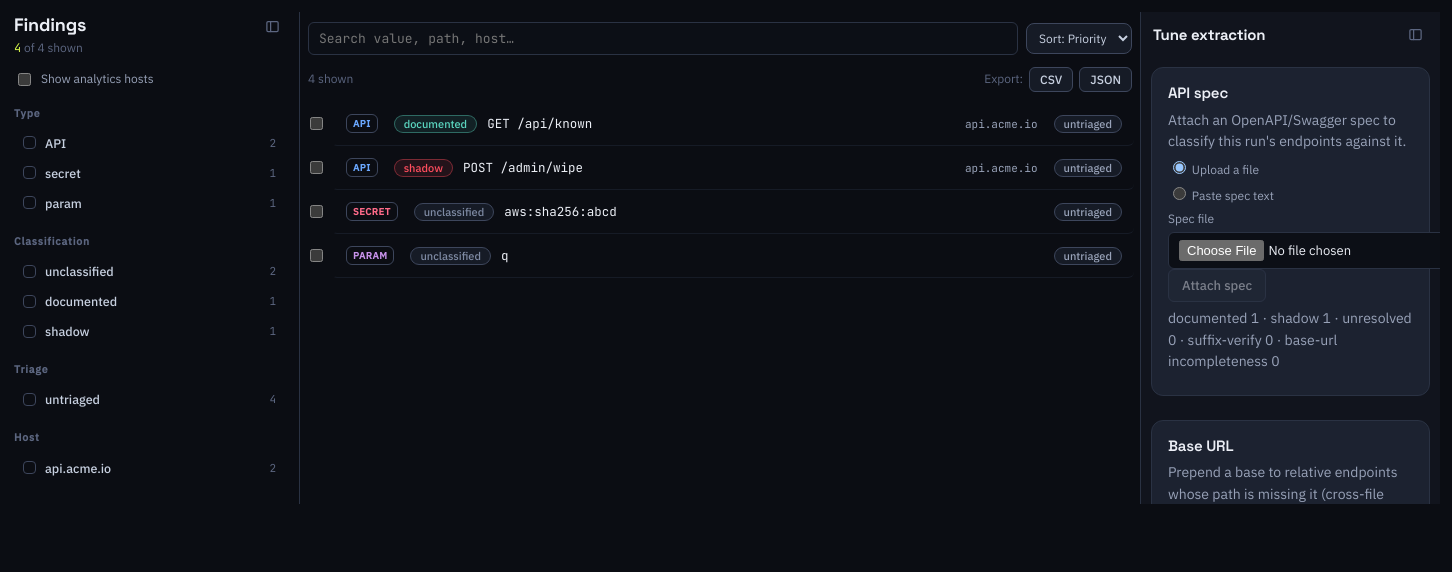
Scenario: FindingsPage › filters by the free-text search
The width and height of the screenshot is (1452, 572).
Type "admin" into the field named "search findings" at (663, 38), box [308,22,1018,55]
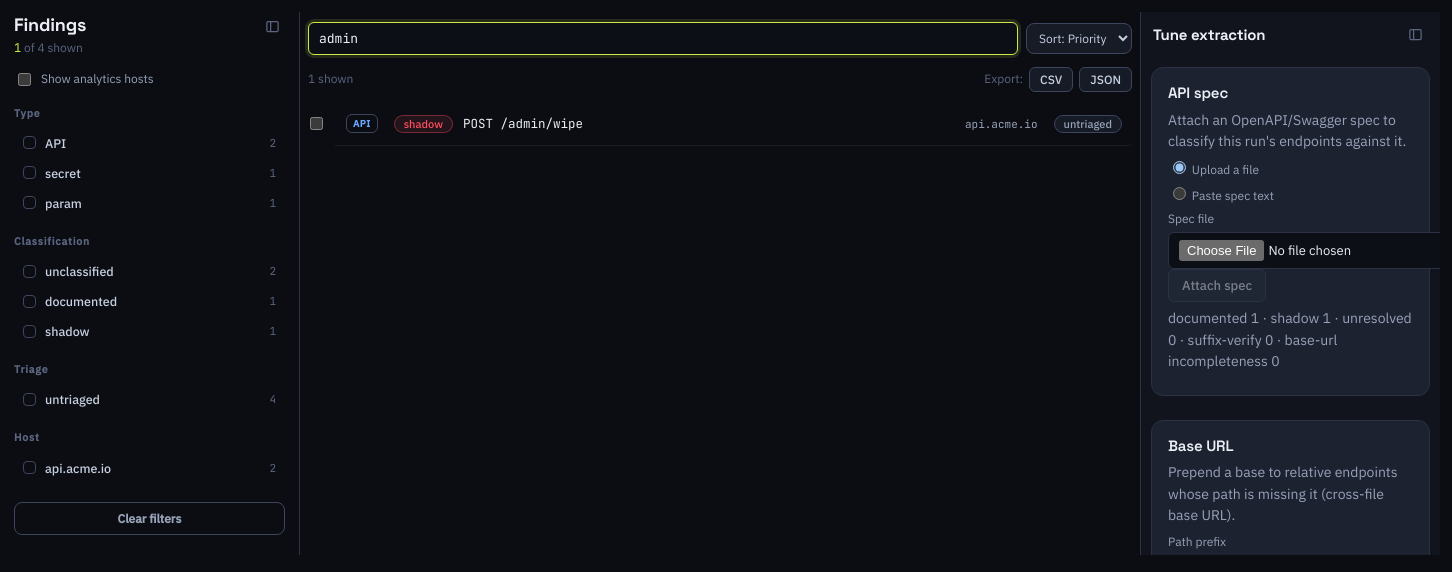
Expected: the text "POST /admin/wipe" is shown, [463,115,583,132]
Result: the button "GET /api/known" is gone
